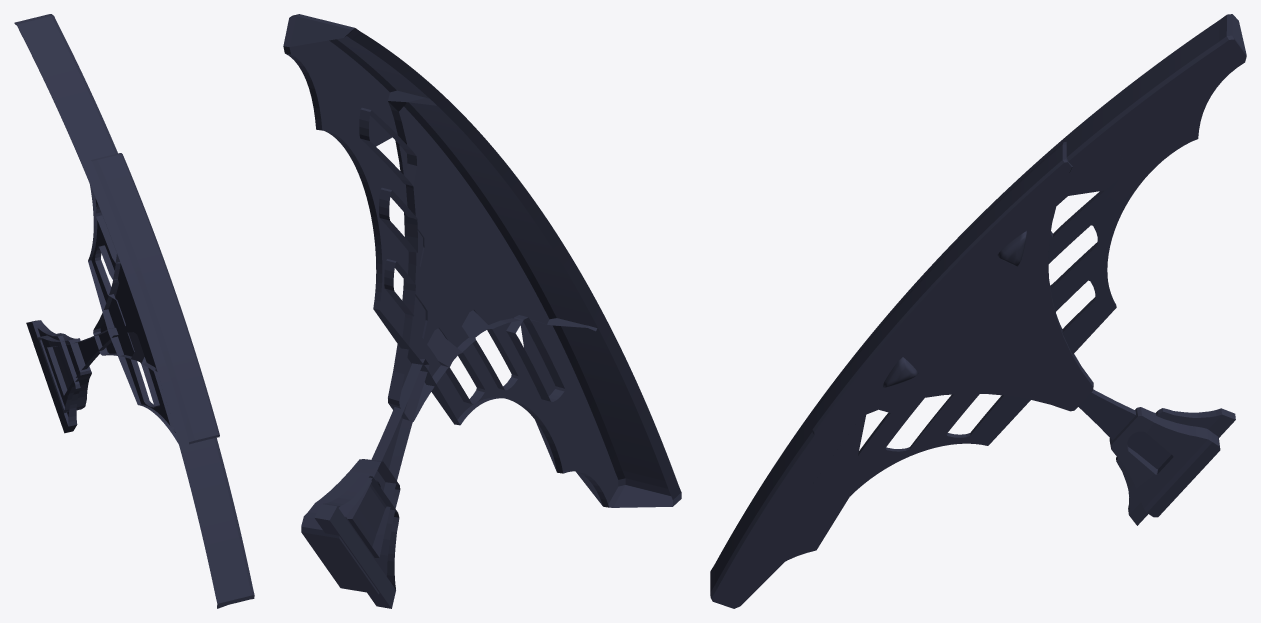
File: Shevron_Main.obj
3 renders of one model, left to right at view 1: azimuth 30°, elevation 25°; view 2: azimuth 150°, elevation 25°; view 3: azimuth 270°, elevation 25°, orthographic. The views are drawn at different scales.
Parts seen in each view (by area): view 1: Backplate_small.057_Circle.015; view 2: Backplate_small.057_Circle.015; view 3: Backplate_small.057_Circle.015.
Boxes of the visible parts, x1=… form: Backplate_small.057_Circle.015: x1=14, y1=14, x2=254, y2=608; Backplate_small.057_Circle.015: x1=283, y1=14, x2=681, y2=608; Backplate_small.057_Circle.015: x1=710, y1=14, x2=1246, y2=608.
Size of the model in its own units: 0.178 by 1.56 by 1.32.
